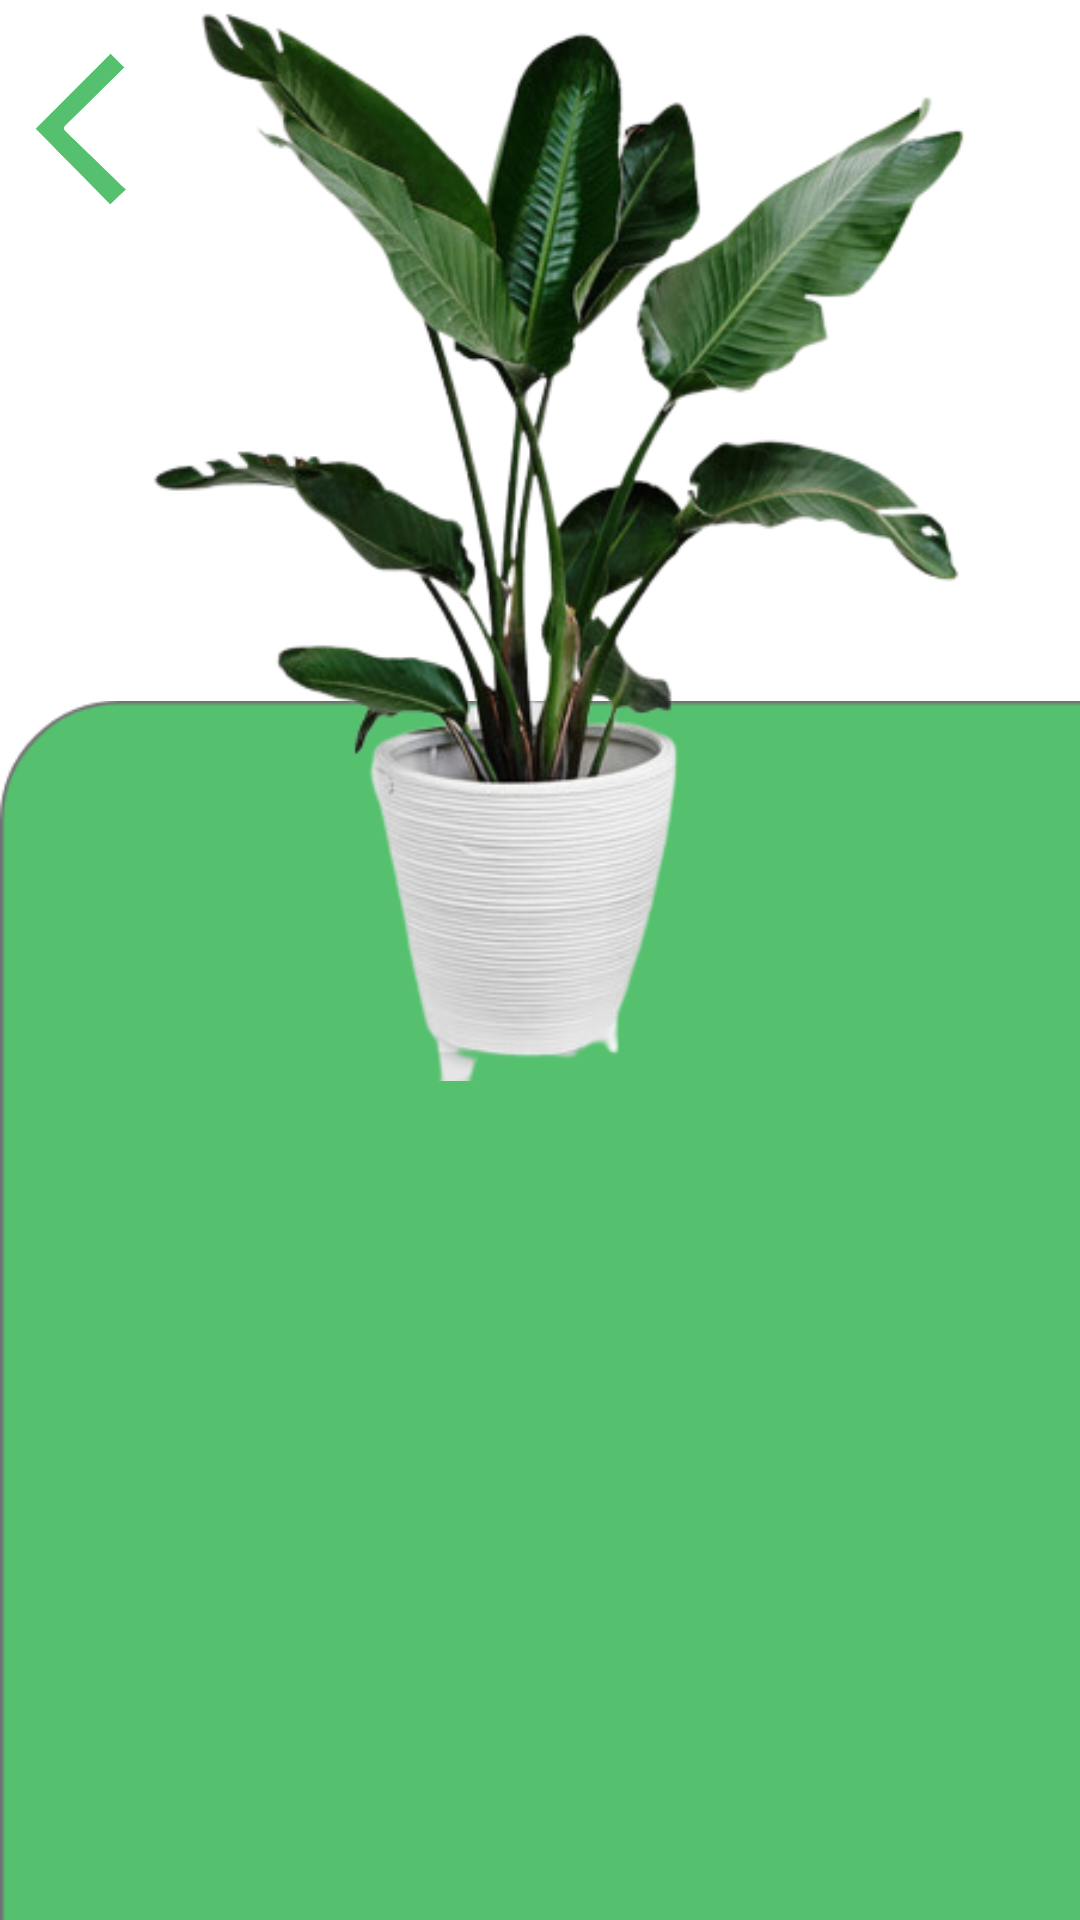

Named icons in this screenshot (1080w x 1920h) and their bounding boxes, (x1, y1, x2, y2):
back: (36, 53, 126, 204)
